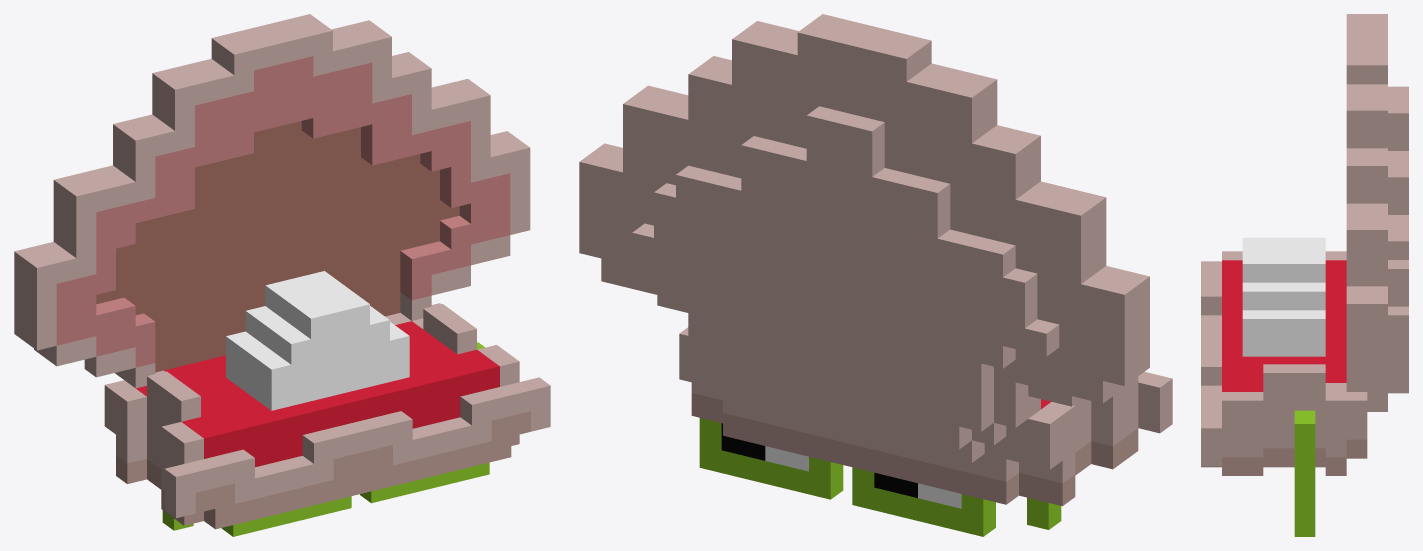
File: oyster.glb
3 renders of one model, left to right at view 1: azimuth 30°, elevation 25°; view 2: azimuth 150°, elevation 25°; view 3: azimuth 270°, elevation 25°, orthographic. The views are drawn at different scales.
Visible parts, largest first — view 1: base, l1, l2, glasses; view 2: base, glasses, layer-2; view 3: base, glasses.
Boxes of the visible parts, left/top/right/bottom form: base: left=14, top=14, right=550, bottom=529; l1: left=56, top=56, right=510, bottom=367; l2: left=96, top=154, right=458, bottom=369; glasses: left=162, top=342, right=489, bottom=536; base: left=579, top=14, right=1172, bottom=506; glasses: left=699, top=418, right=1061, bottom=536; layer-2: left=721, top=423, right=961, bottom=508; base: left=1201, top=14, right=1408, bottom=475; glasses: left=1294, top=410, right=1315, bottom=536.
Bounding box in the file's own units: 25 × 22 × 10.
Materials: 12 (12 with a texture image).
